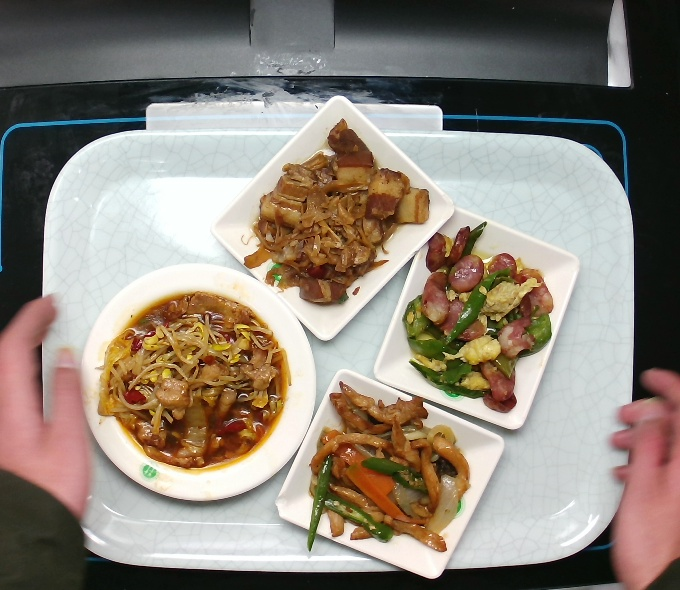wcq-HongShaoRou: (235, 114, 435, 316)
wcq-QingJiaoJiDanChaoDaChang: (395, 217, 563, 417)
wcq-QingJiaoRouSi: (301, 376, 474, 565)
wcq-ShuiZhuRouPian: (90, 284, 302, 479)
